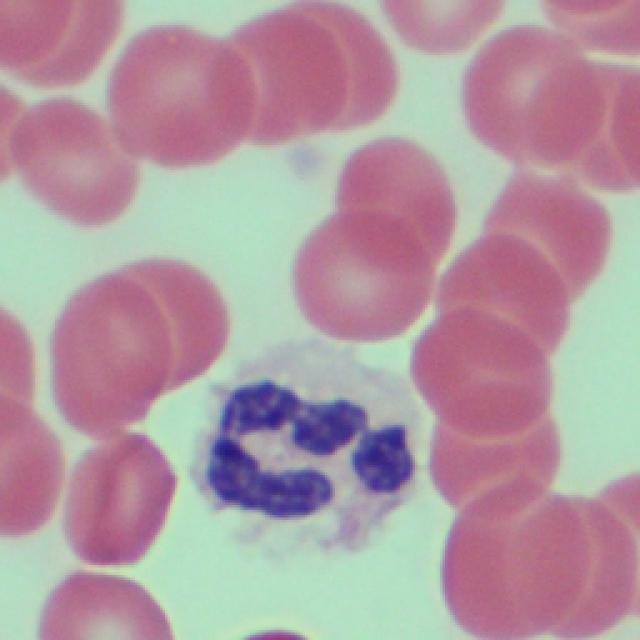RBC: (292, 130, 450, 350), (429, 480, 638, 638), (44, 256, 221, 438), (414, 299, 554, 515), (221, 0, 386, 143), (106, 11, 244, 180), (5, 96, 136, 235), (59, 418, 178, 567), (483, 166, 610, 290), (2, 0, 122, 91), (30, 565, 172, 640), (533, 0, 636, 95), (0, 409, 63, 545), (378, 0, 504, 61)
WBC: (204, 372, 407, 524)
